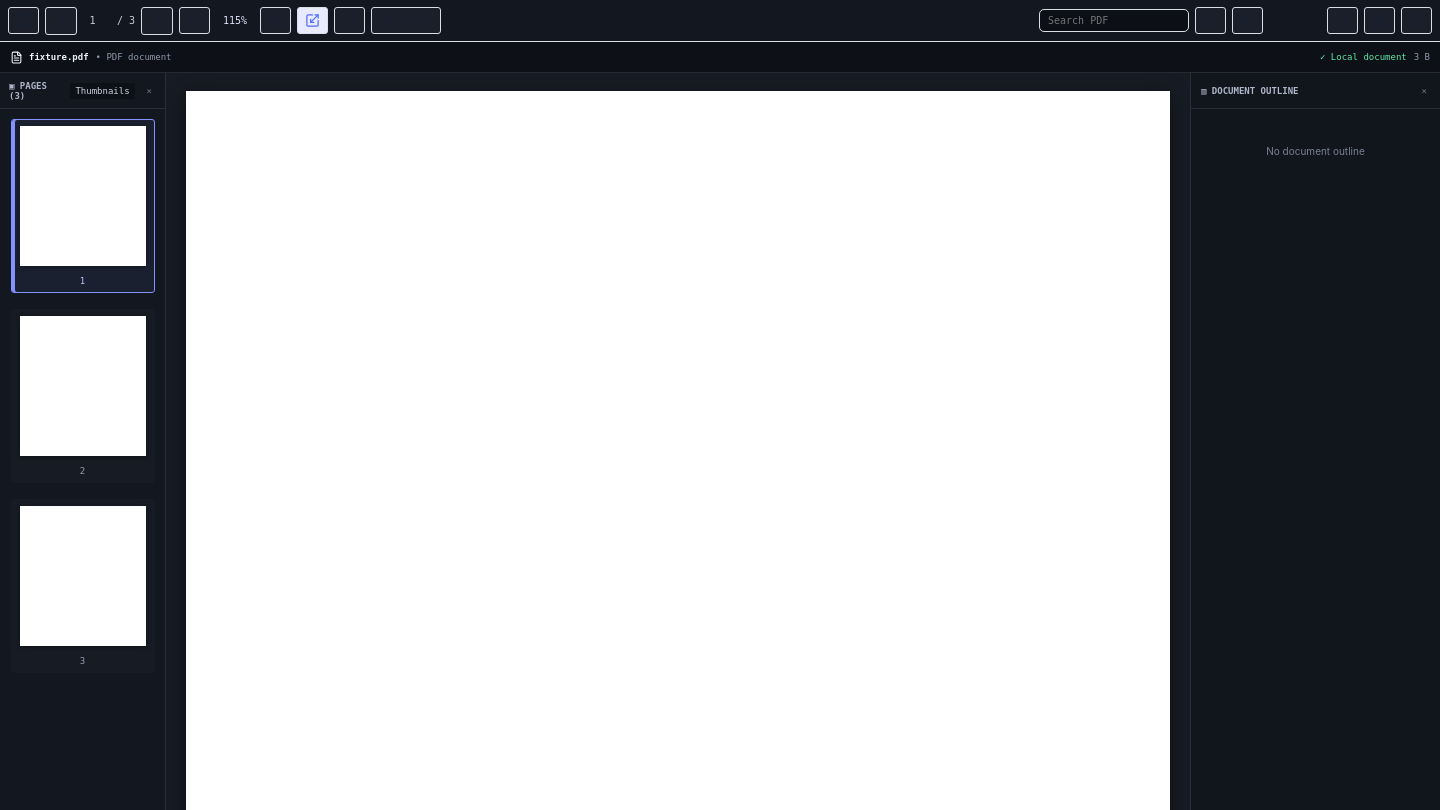
Test case: PdfViewer › shows, closes, and reopens the page preview panel
Check: the element named "PDF page previews" is shown, box [0,73,166,809]
Click the button named "Close page previews" at [149, 90], box [140,82,159,98]
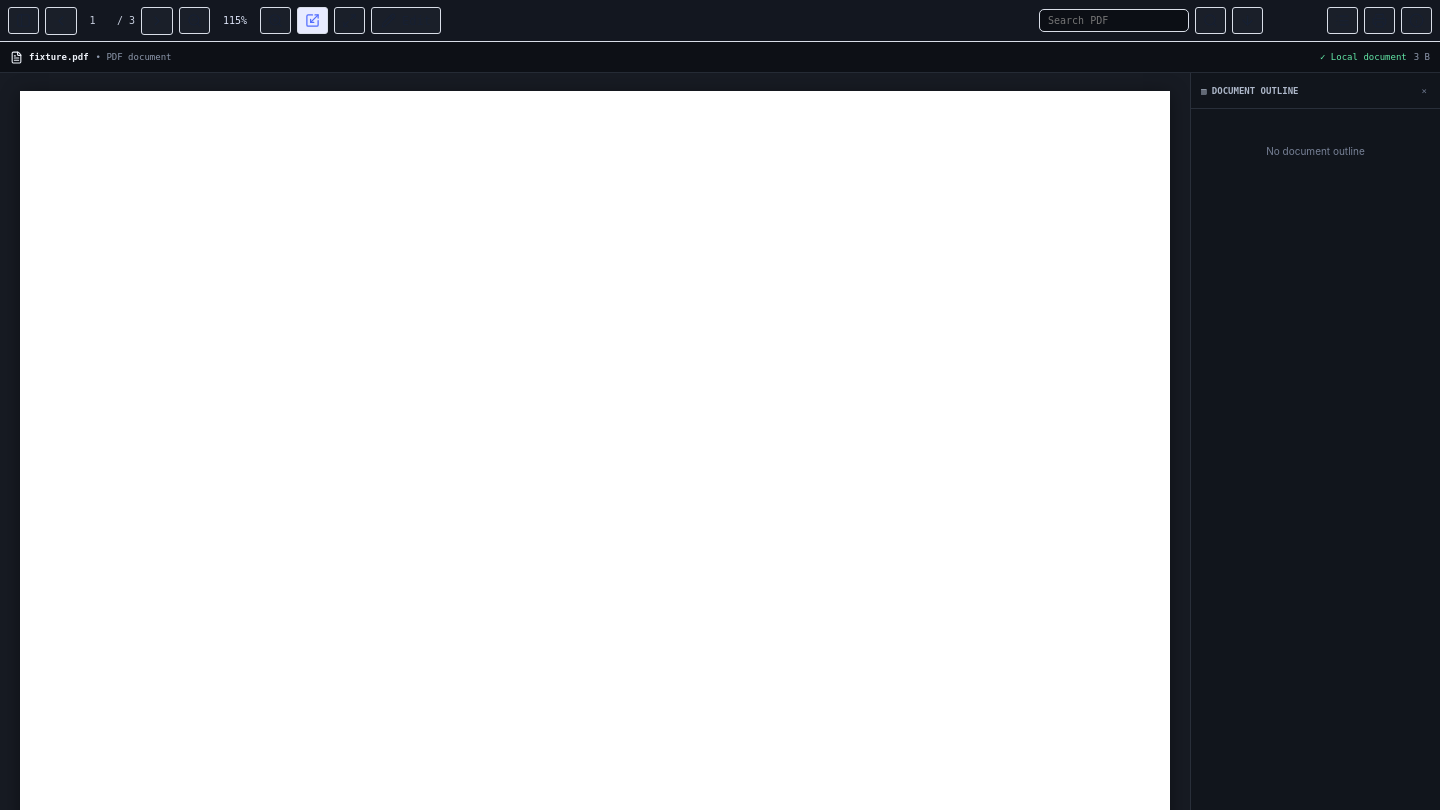
Click the button named "Show previews" at [24, 20], box [8,7,39,34]
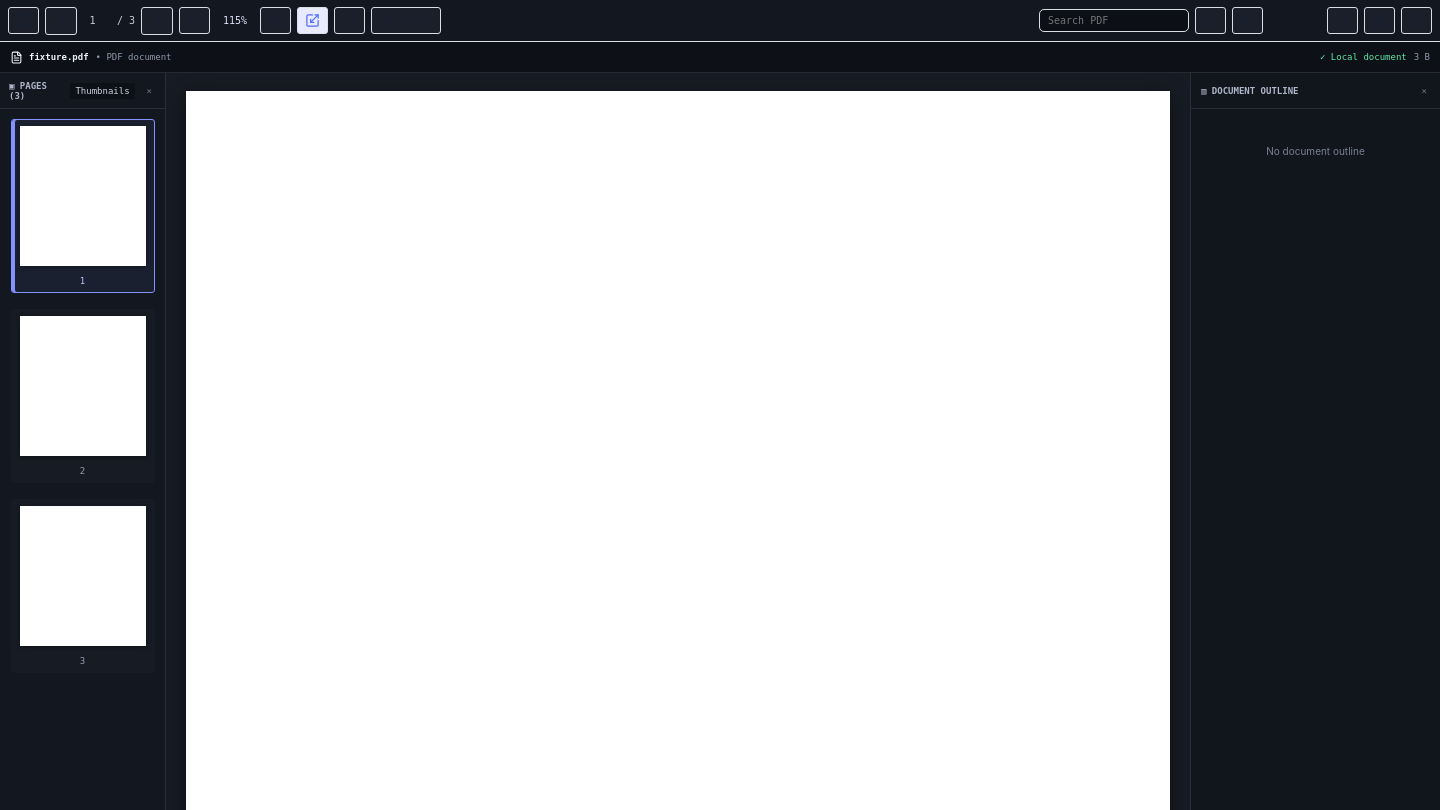
Check: the element named "PDF page previews" is shown, box [0,73,166,809]
